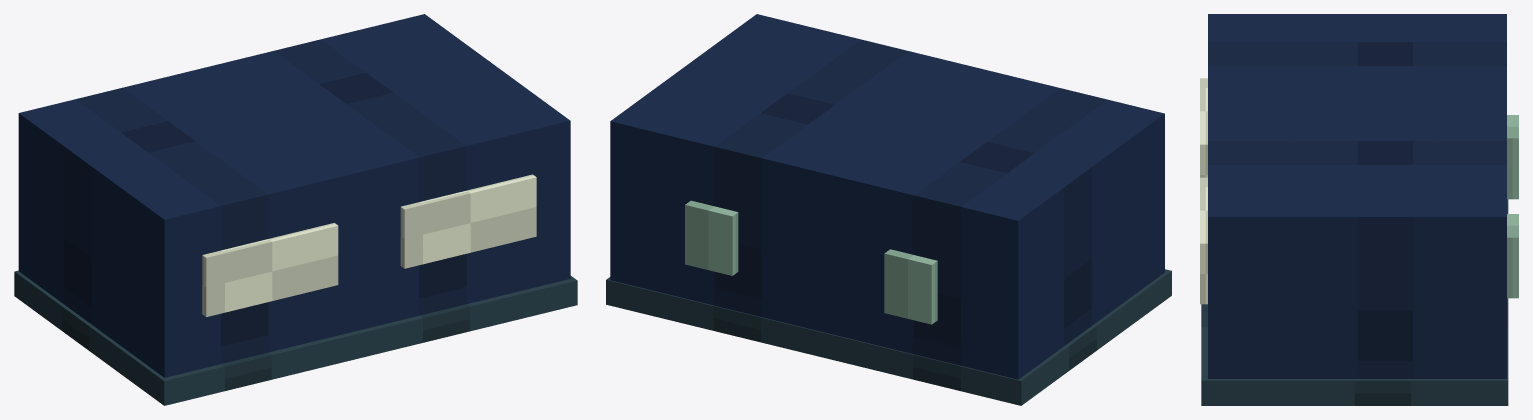
File: jindan_taiyin_boots.obj
3 views of the same model, side by side, from view 1: azimuth 30°, elevation 25°; view 2: azimuth 150°, elevation 25°; view 3: azimuth 270°, elevation 25° (orthographic). The views are drawn at different scales.
Parts seen in each view (by area): view 1: moon_boot_-1, moon_boot_1, moon_sole_-1, moon_toe_-1, moon_toe_1, moon_sole_1; view 2: moon_boot_-1, moon_boot_1, moon_sole_-1, moon_sole_1, moon_heel_-1, moon_heel_1; view 3: moon_boot_1, moon_boot_-1, moon_sole_1, moon_toe_1, moon_heel_-1, moon_heel_1, moon_toe_-1.
Boxes of the visible parts, x1=… form: moon_boot_-1: x1=18, y1=63, x2=372, y2=377; moon_boot_1: x1=217, y1=14, x2=570, y2=328; moon_sole_-1: x1=14, y1=270, x2=379, y2=405; moon_toe_-1: x1=202, y1=223, x2=338, y2=317; moon_toe_1: x1=400, y1=174, x2=536, y2=268; moon_sole_1: x1=359, y1=276, x2=577, y2=356; moon_boot_-1: x1=809, y1=63, x2=1164, y2=379; moon_boot_1: x1=610, y1=14, x2=964, y2=328; moon_sole_-1: x1=805, y1=269, x2=1171, y2=405; moon_sole_1: x1=606, y1=277, x2=821, y2=356; moon_heel_-1: x1=884, y1=249, x2=937, y2=324; moon_heel_1: x1=685, y1=200, x2=738, y2=275; moon_boot_1: x1=1208, y1=113, x2=1506, y2=378; moon_boot_-1: x1=1208, y1=14, x2=1506, y2=117; moon_sole_1: x1=1201, y1=298, x2=1508, y2=405; moon_toe_1: x1=1200, y1=177, x2=1207, y2=304; moon_heel_-1: x1=1507, y1=115, x2=1518, y2=199; moon_heel_1: x1=1507, y1=214, x2=1518, y2=298; moon_toe_-1: x1=1200, y1=78, x2=1207, y2=177.
Bounding box in the file's own units: 0.5469 × 0.2313 × 0.3569.
